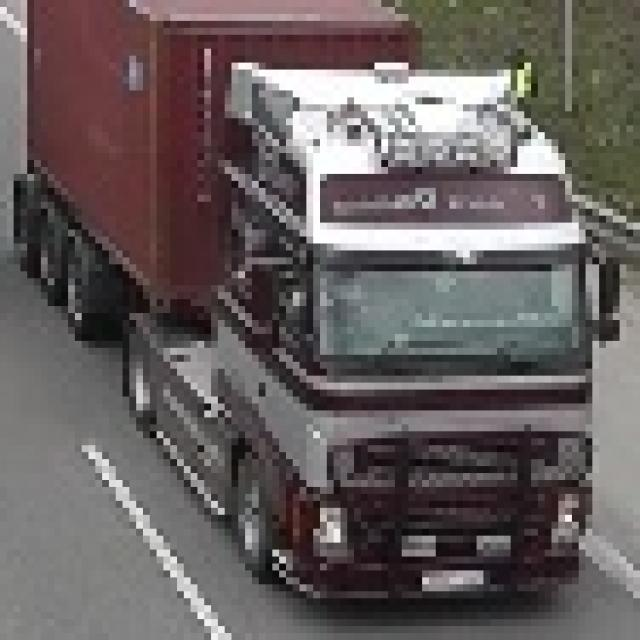TRUCK: (13, 0, 606, 607)
